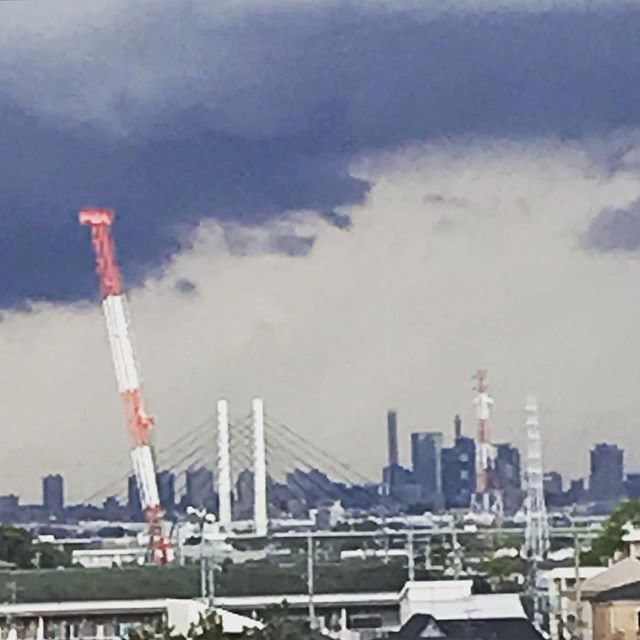crane: (75, 212, 175, 581)
sky: (6, 3, 640, 459)
